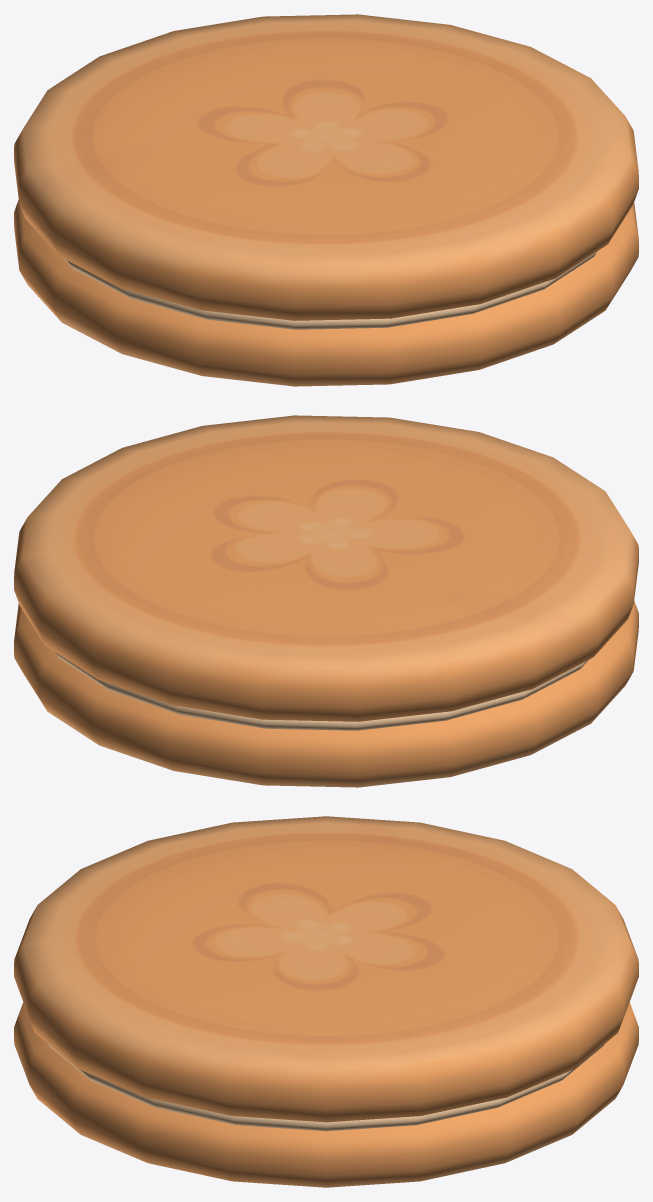
File: biscuit_0.fbx
3 views of the same model, one above another, from view 1: azimuth 30°, elevation 25°; view 2: azimuth 150°, elevation 25°; view 3: azimuth 270°, elevation 25° (orthographic).
Visible parts, largest first — view 1: biscuit; view 2: biscuit; view 3: biscuit.
Boxes of the visible parts, x1=… form: biscuit: x1=14, y1=14, x2=638, y2=386; biscuit: x1=14, y1=415, x2=638, y2=787; biscuit: x1=14, y1=816, x2=638, y2=1187.
Bounding box in the file's own units: 5.02 × 1.17 × 5.02.
